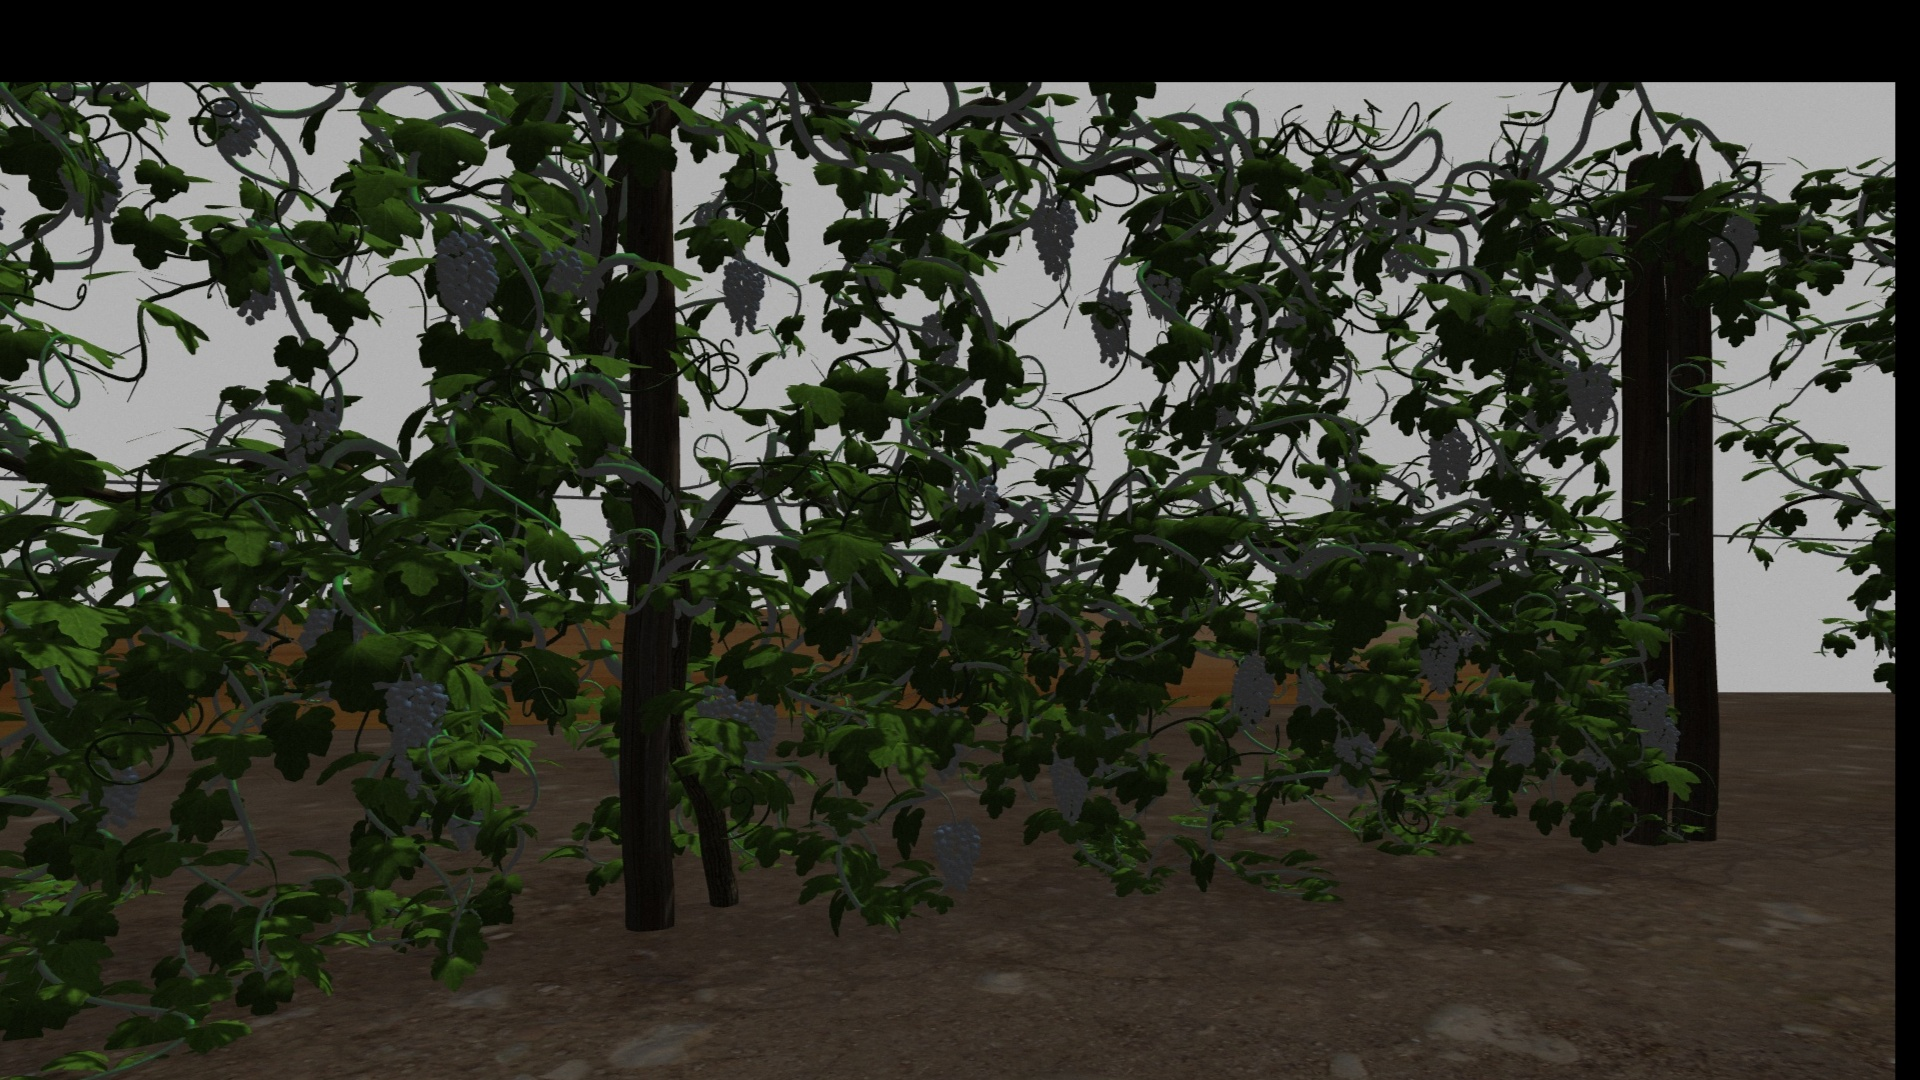grape: (431, 227, 498, 323), (384, 676, 448, 773), (1031, 200, 1077, 284), (934, 818, 981, 893), (1229, 653, 1276, 727), (1567, 363, 1615, 434), (721, 258, 765, 338), (1425, 427, 1473, 498), (1708, 214, 1759, 277), (1091, 291, 1133, 368), (1047, 756, 1089, 825), (99, 764, 141, 829), (208, 103, 260, 157), (1627, 678, 1669, 742), (1420, 632, 1461, 695), (957, 477, 1001, 535), (919, 309, 963, 367), (740, 703, 777, 767), (539, 247, 583, 295), (1139, 274, 1182, 319), (303, 398, 336, 455), (276, 411, 309, 465), (1333, 731, 1375, 771), (695, 686, 738, 723), (1499, 727, 1536, 766), (1640, 725, 1677, 764)
